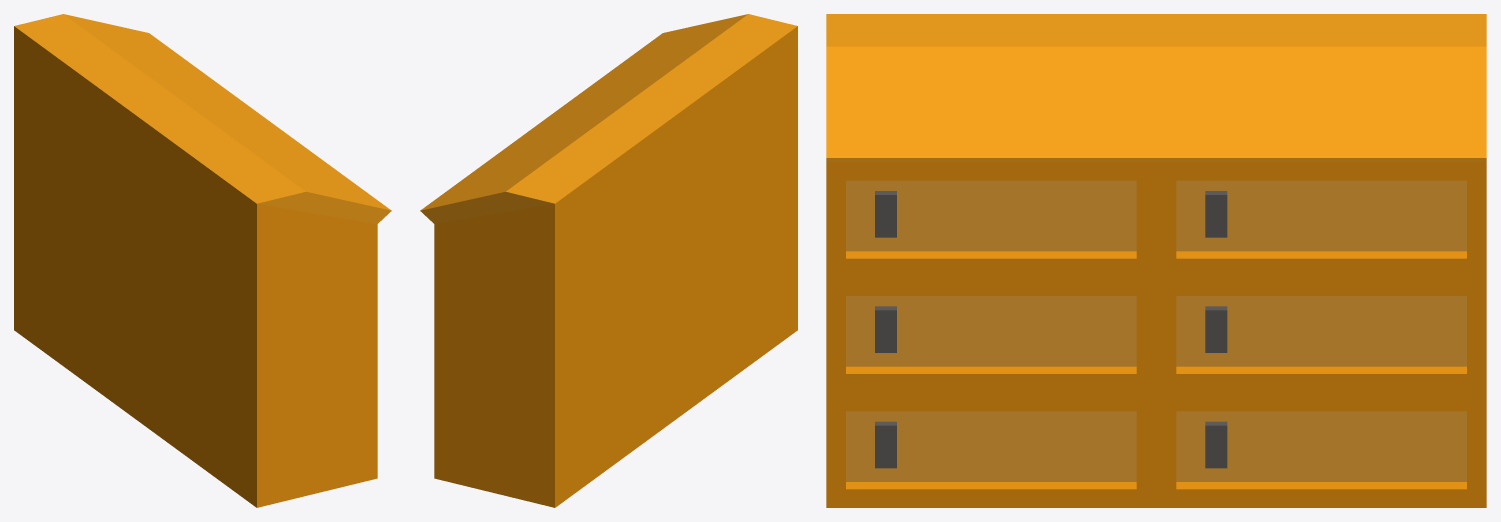
The model's file is PostBox_2_F.fbx.
The picture shows the model from 3 angles, left to right: view 1: azimuth 30°, elevation 25°; view 2: azimuth 150°, elevation 25°; view 3: azimuth 270°, elevation 25°; orthographic projection. The views are drawn at different scales.
Parts seen in each view (by area): view 1: PostBox_2_F; view 2: PostBox_2_F; view 3: PostBox_2_F.
Part boxes in pixels (x1,y1,x2,y2): PostBox_2_F: (14,14,391,507); PostBox_2_F: (420,14,797,507); PostBox_2_F: (826,14,1486,507).
Size of the model in its own units: 19.48 by 41.93 by 60.65.
